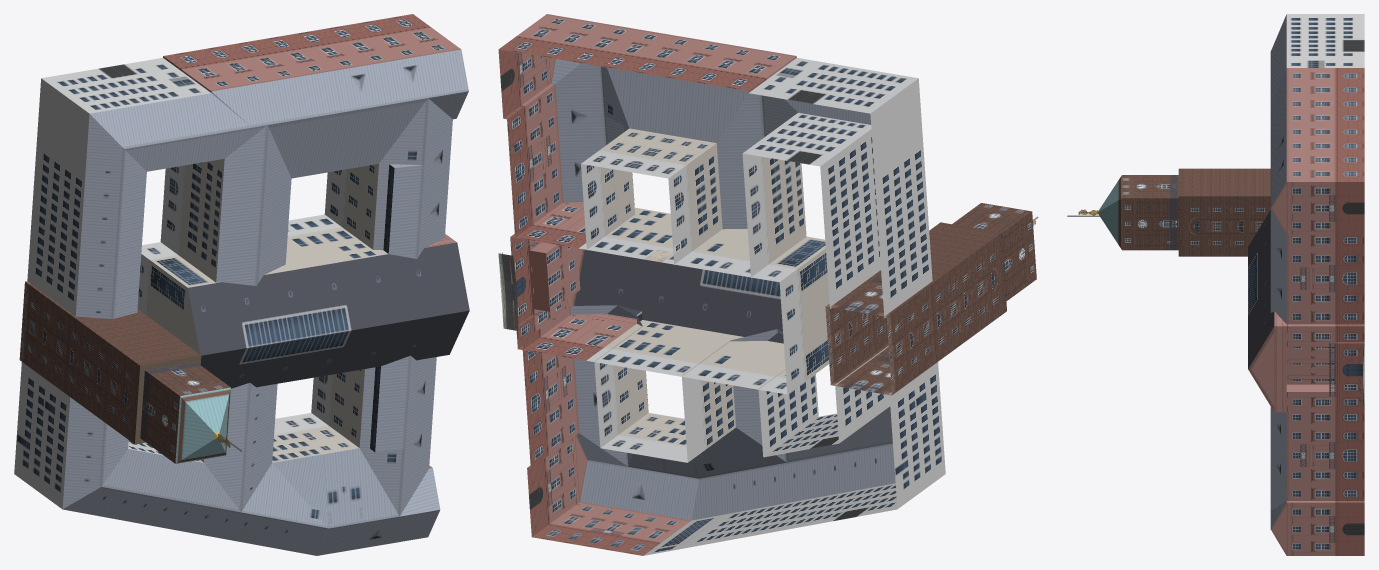
Rendered from DEU_CY0224_KARLSRUHE_RATHAUS_KARLSRUHE_L.OBJ.
3 renders of one model, left to right at view 1: azimuth 30°, elevation 25°; view 2: azimuth 150°, elevation 25°; view 3: azimuth 270°, elevation 25°, orthographic. The views are drawn at different scales.
Visible parts, largest first — view 1: L; view 2: L; view 3: L.
Part boxes in pixels (bbox=[...]): L: bbox=[14, 14, 469, 555]; L: bbox=[498, 14, 1038, 555]; L: bbox=[1067, 14, 1364, 555].
Bounding box in the file's own units: 65.5 × 79.42 × 52.4.
1 material, 1 textured.
